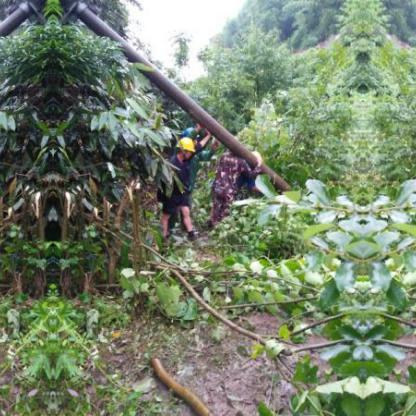helmet: (171, 135, 200, 156)
